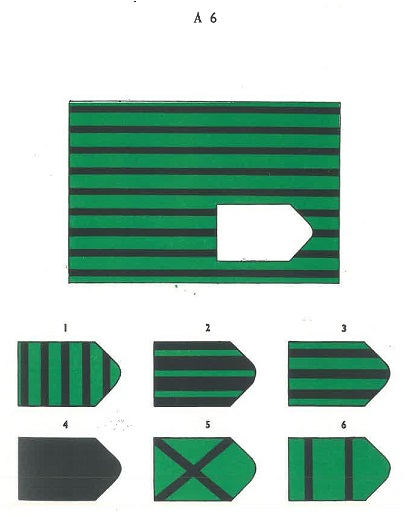Array 1: (13, 320, 125, 411)
Array 2: (149, 320, 260, 411)
Array 3: (281, 320, 395, 411)
Array 4: (15, 414, 126, 505)
Array 5: (150, 415, 260, 505)
Array 6: (283, 414, 396, 505)
Matrix: (62, 95, 345, 288)
Matrix Unknown: (214, 201, 314, 263)
